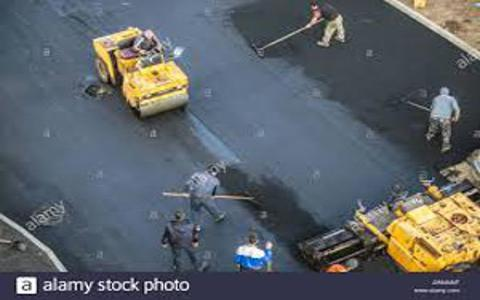Proper road: (29, 104, 140, 207), (209, 53, 302, 161)
